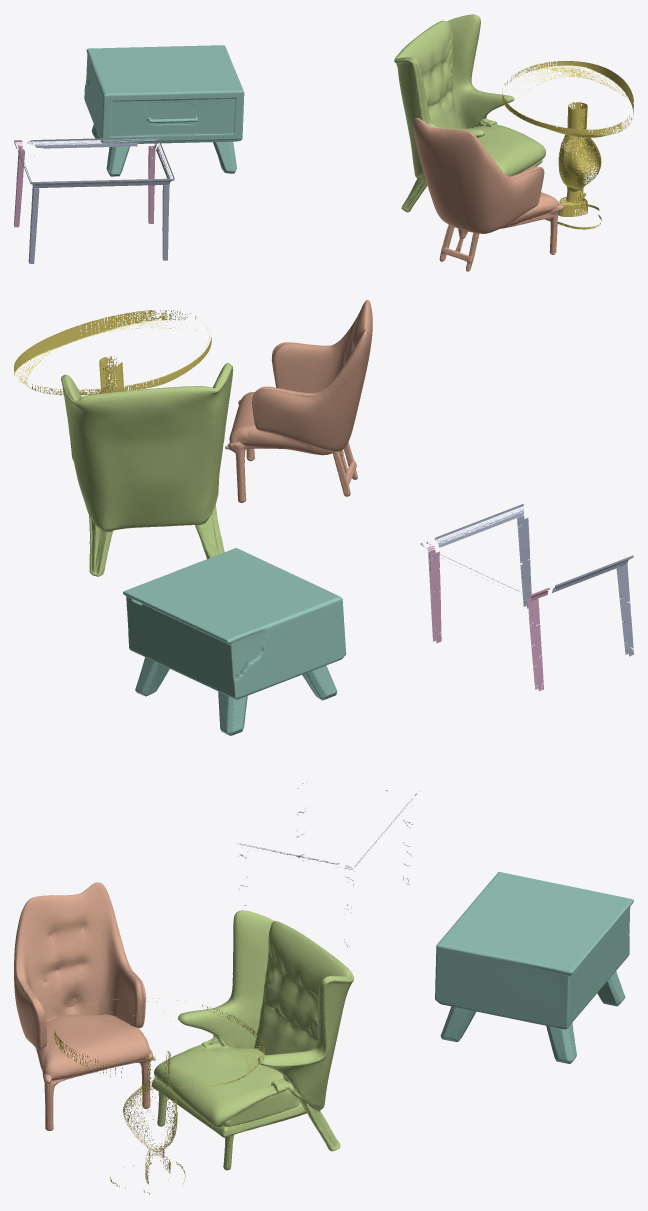
The model's file is ours_draco.glb.
3 renders of one model, top to bottom at view 1: azimuth 30°, elevation 25°; view 2: azimuth 150°, elevation 25°; view 3: azimuth 270°, elevation 25°, orthographic. The views are drawn at different scales.
Visible parts, largest first — view 1: target_0_0, target_4_0, target_1_0, target_5_0, target_2_0, target_3_0; view 2: target_0_0, target_4_0, target_1_0, target_5_0, target_2_0, target_3_0; view 3: target_4_0, target_0_0, target_1_0, target_5_0.
Boxes of the visible parts, x1,y1,x2,y2 form: target_0_0: (84,45,244,176); target_4_0: (394,14,545,212); target_1_0: (413,118,564,271); target_5_0: (502,61,633,229); target_2_0: (18,137,174,263); target_3_0: (14,139,159,227); target_0_0: (123,548,346,735); target_4_0: (61,363,233,576); target_1_0: (227,300,372,502); target_5_0: (14,310,211,395); target_2_0: (420,504,633,656); target_3_0: (426,541,549,691); target_4_0: (152,910,353,1170); target_0_0: (435,872,633,1063); target_1_0: (14,882,152,1130); target_5_0: (54,997,264,1194).
Size of the model in its own units: 0.8242 by 0.2367 by 0.6734.
